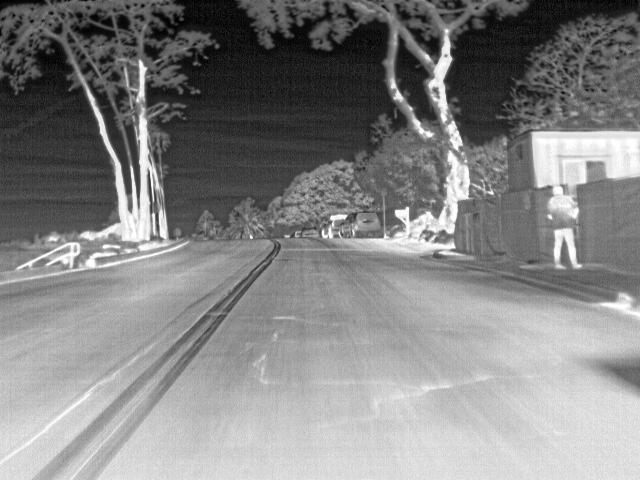car: (337, 212, 382, 240), (321, 214, 347, 240), (299, 227, 320, 239), (288, 228, 302, 239)
person: (547, 181, 581, 271)
